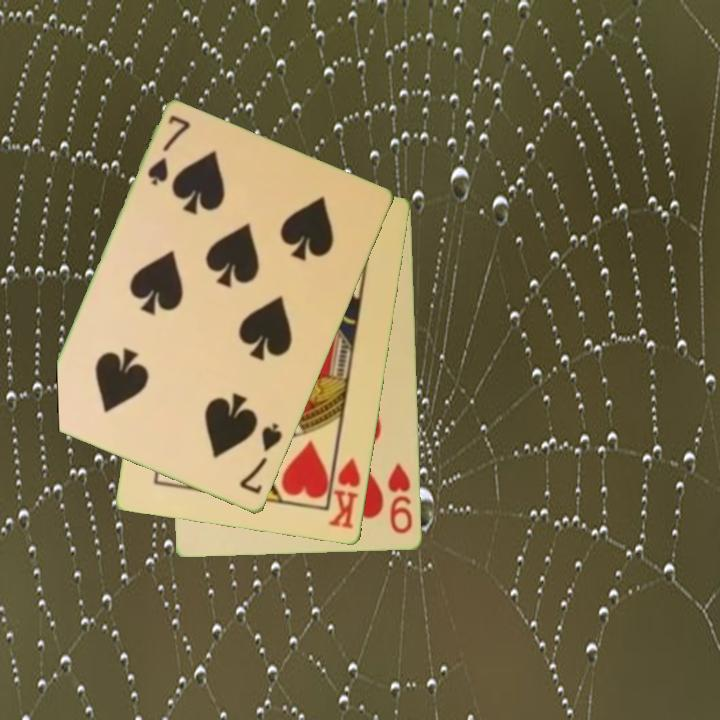7s: (236, 420, 286, 498), (144, 112, 194, 189)
9h: (385, 461, 416, 537)
Kh: (325, 448, 364, 532)
